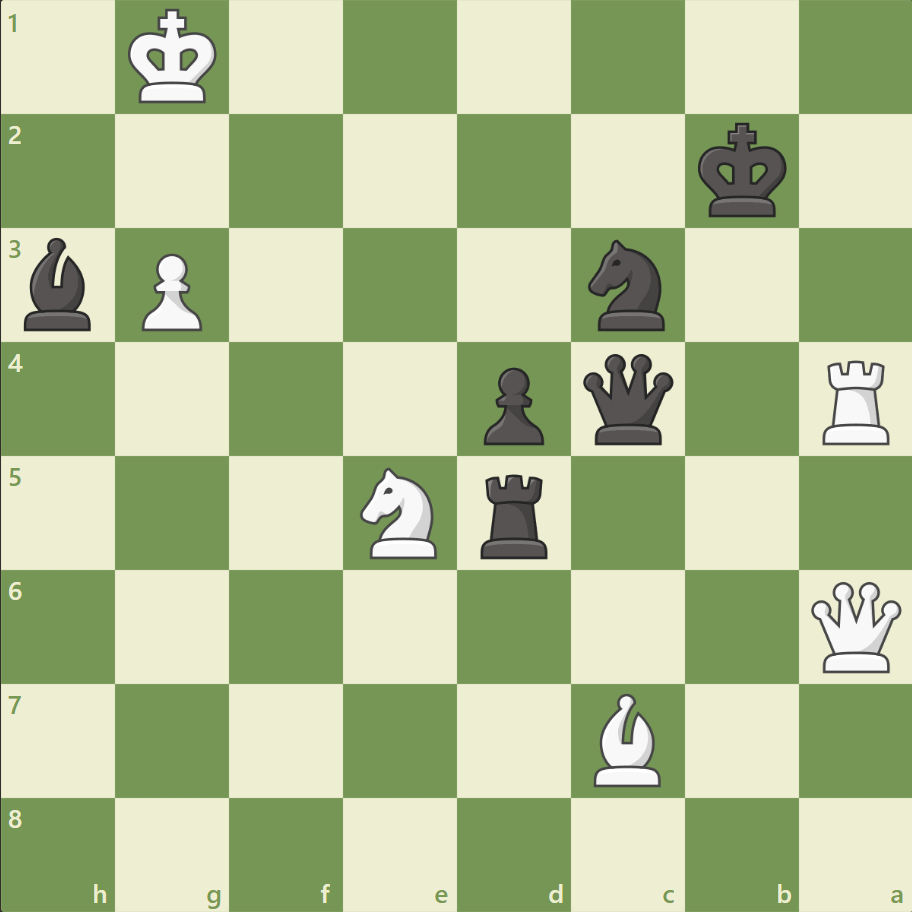B: (592, 693, 670, 796)
K: (128, 13, 226, 114)
N: (360, 467, 449, 568)
P: (142, 249, 214, 333)
Q: (808, 580, 909, 682)
R: (819, 354, 897, 454)
b: (24, 239, 103, 342)
k: (696, 126, 794, 228)
n: (587, 240, 676, 341)
p: (482, 362, 554, 447)
q: (581, 353, 682, 455)
r: (479, 467, 557, 567)
